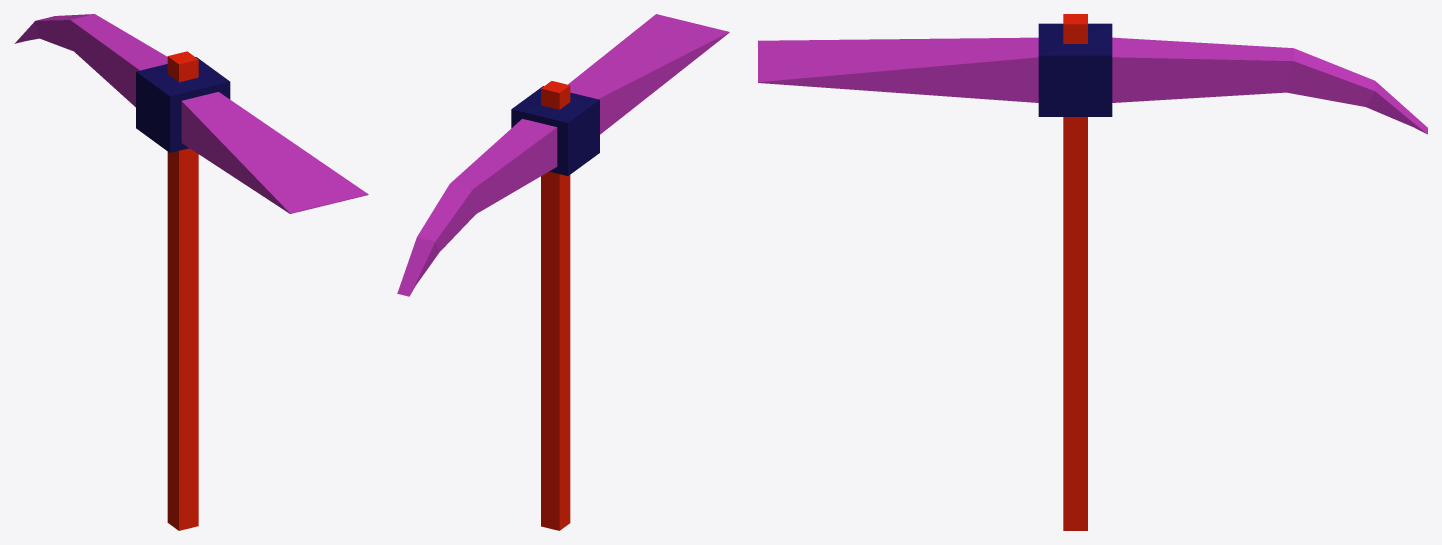
File: pioche.FBX
3 views of the same model, side by side, from view 1: azimuth 30°, elevation 25°; view 2: azimuth 150°, elevation 25°; view 3: azimuth 270°, elevation 25° (orthographic). The views are drawn at different scales.
Visible parts, largest first — view 1: Box002; view 2: Box002; view 3: Box002.
Boxes of the visible parts, box(x1,y1,x2,y2) form: Box002: box(14, 14, 368, 530); Box002: box(397, 14, 729, 530); Box002: box(758, 14, 1427, 530).
Bounding box in the file's own units: 52.03 × 296 × 355.
